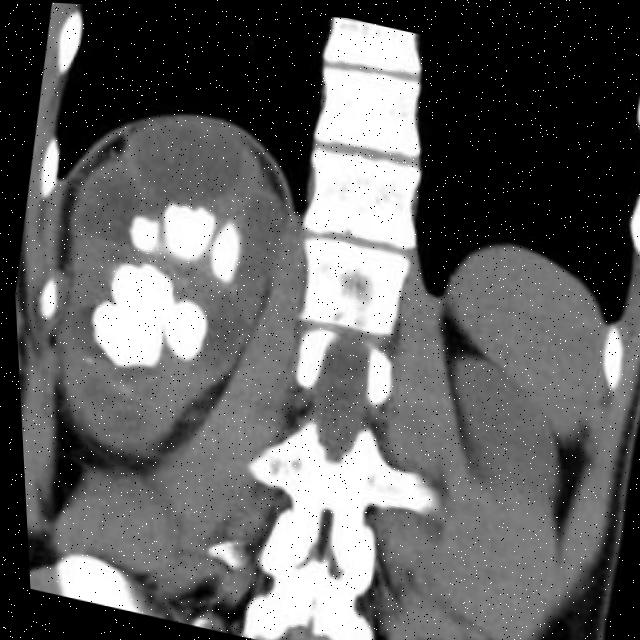Tas_Var: (54, 241, 221, 387), (147, 187, 224, 275), (199, 211, 253, 289), (116, 199, 164, 257), (78, 354, 94, 367)
